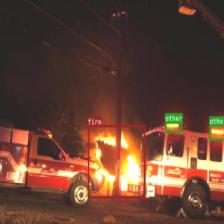fire: (87, 125, 145, 198)
